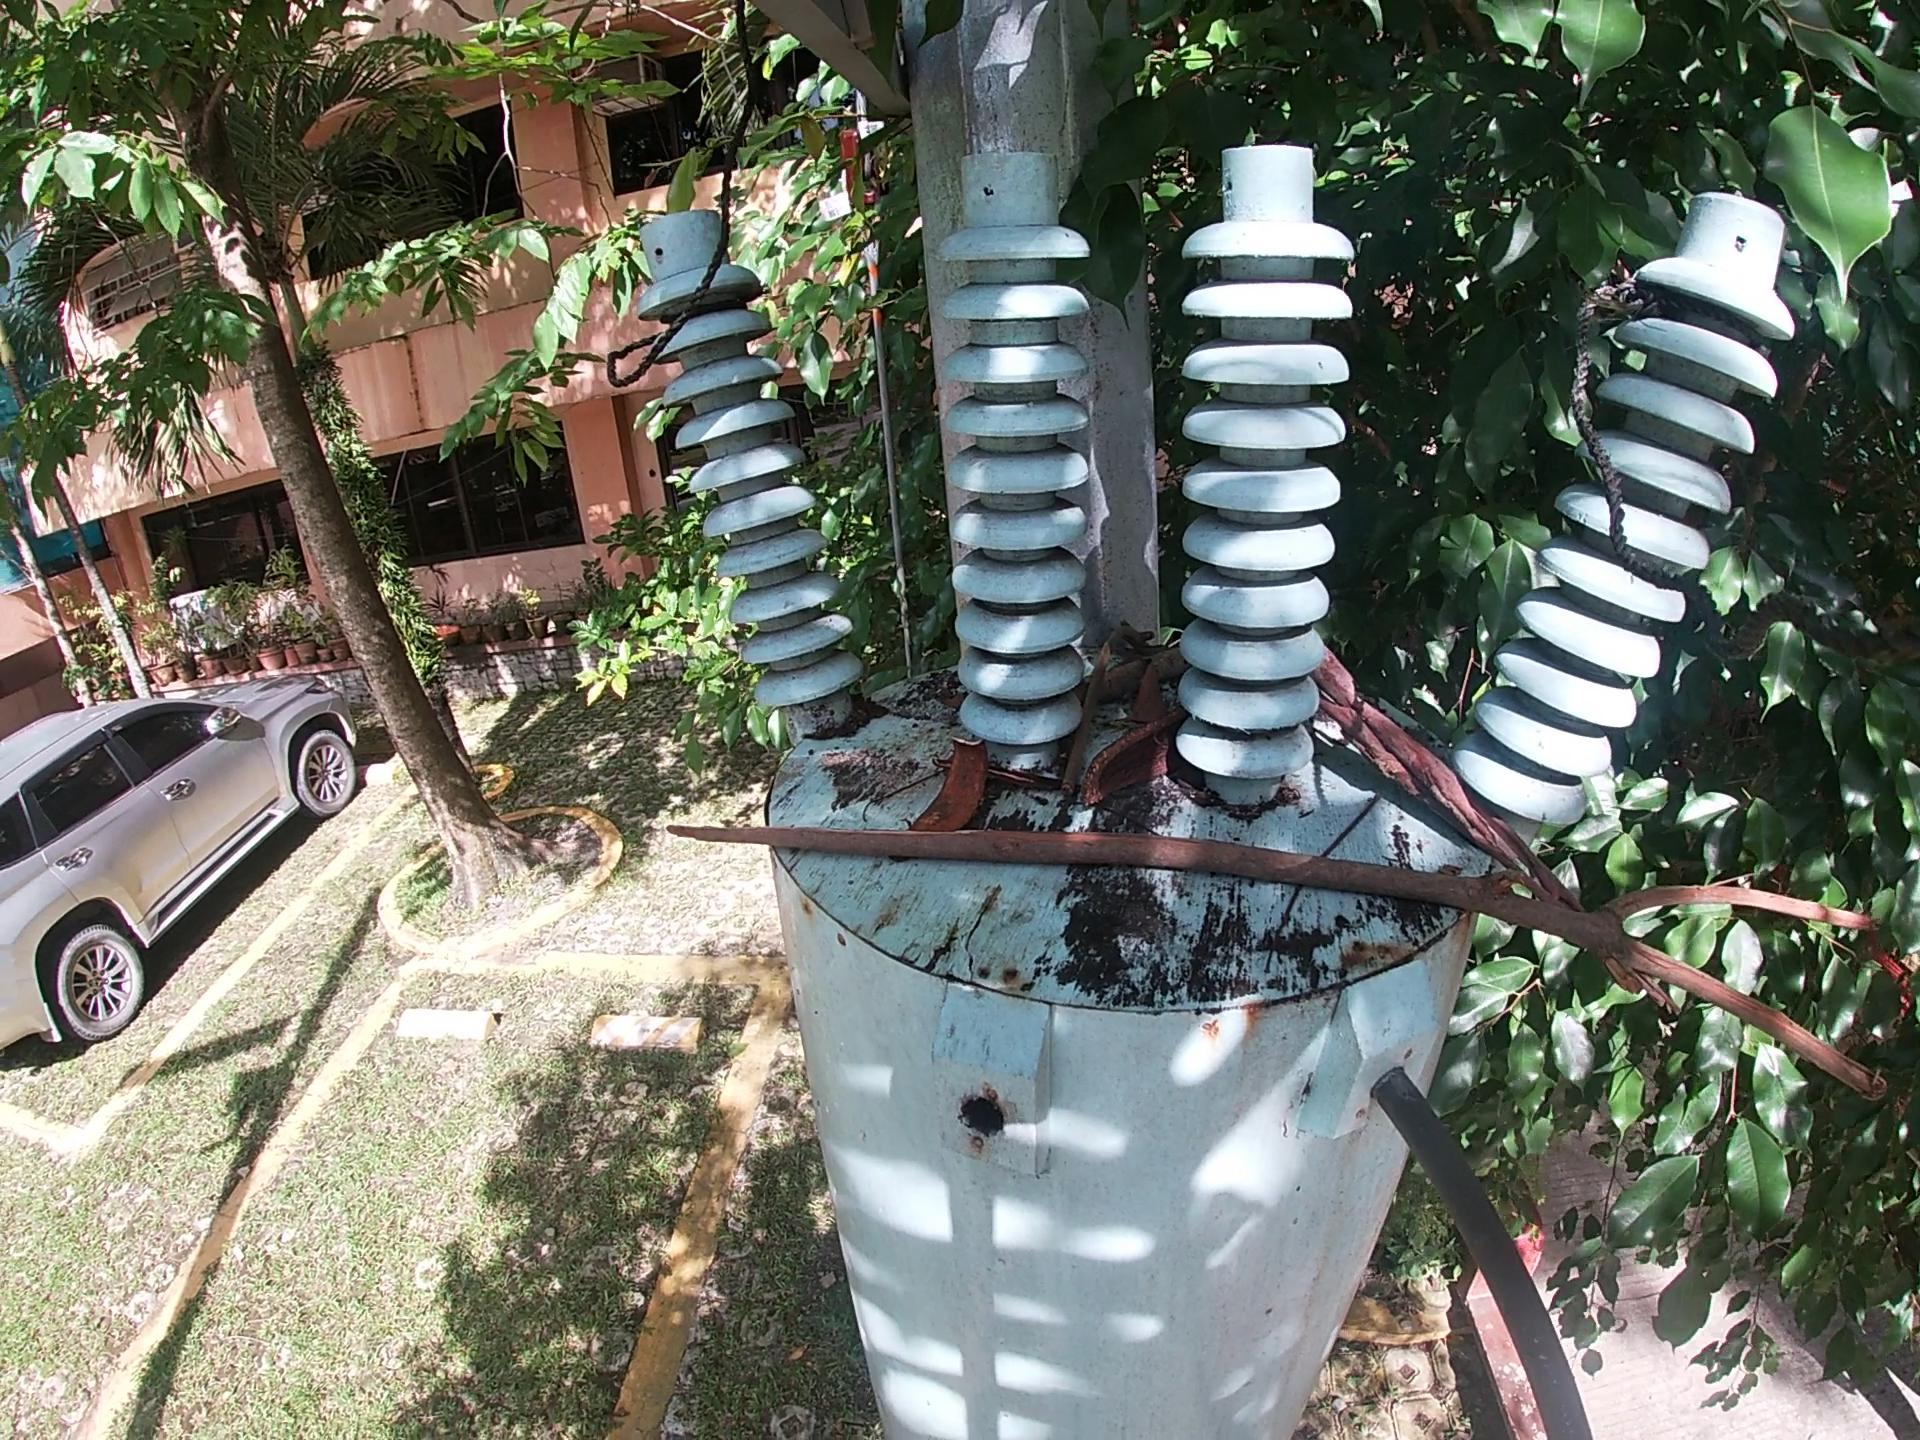leaf: (1125, 667, 1166, 725), (943, 690, 971, 703)
mahogany fruit: (1081, 712, 1178, 817), (906, 728, 1007, 824)
tree branch: (593, 808, 1891, 1166), (1312, 643, 1575, 911), (1255, 793, 1377, 979), (1058, 597, 1135, 800), (1092, 638, 1202, 687), (863, 765, 942, 818), (996, 768, 1051, 796)
